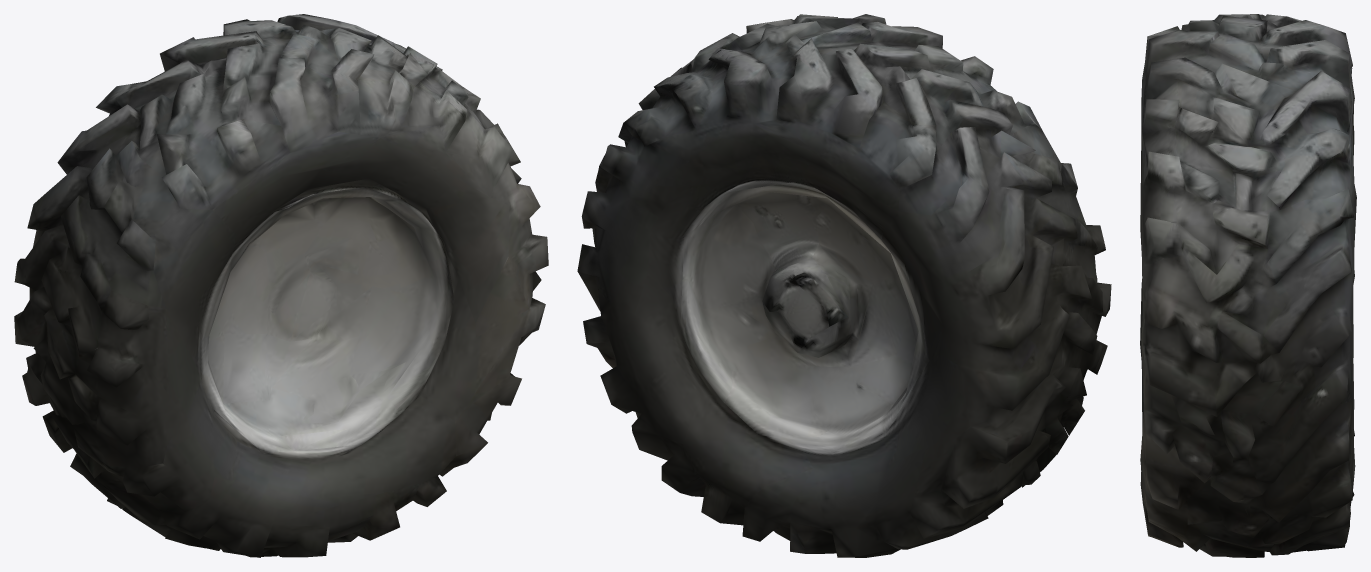
Rendered from car_wheel.glb.
The picture shows the model from 3 angles, left to right: view 1: azimuth 30°, elevation 25°; view 2: azimuth 150°, elevation 25°; view 3: azimuth 270°, elevation 25°; orthographic projection.
Visible parts, largest first — view 1: tripo_node_c0ad502e-aec8-4101-bc6c-e5518fca07fd; view 2: tripo_node_c0ad502e-aec8-4101-bc6c-e5518fca07fd; view 3: tripo_node_c0ad502e-aec8-4101-bc6c-e5518fca07fd.
Part boxes in pixels (<box>): tripo_node_c0ad502e-aec8-4101-bc6c-e5518fca07fd: <box>14,14,548,557</box>; tripo_node_c0ad502e-aec8-4101-bc6c-e5518fca07fd: <box>577,14,1111,557</box>; tripo_node_c0ad502e-aec8-4101-bc6c-e5518fca07fd: <box>1140,14,1356,557</box>.
Size of the model in its own units: 0.9967 by 1 by 0.3969.
Materials: 1 (1 with a texture image).
